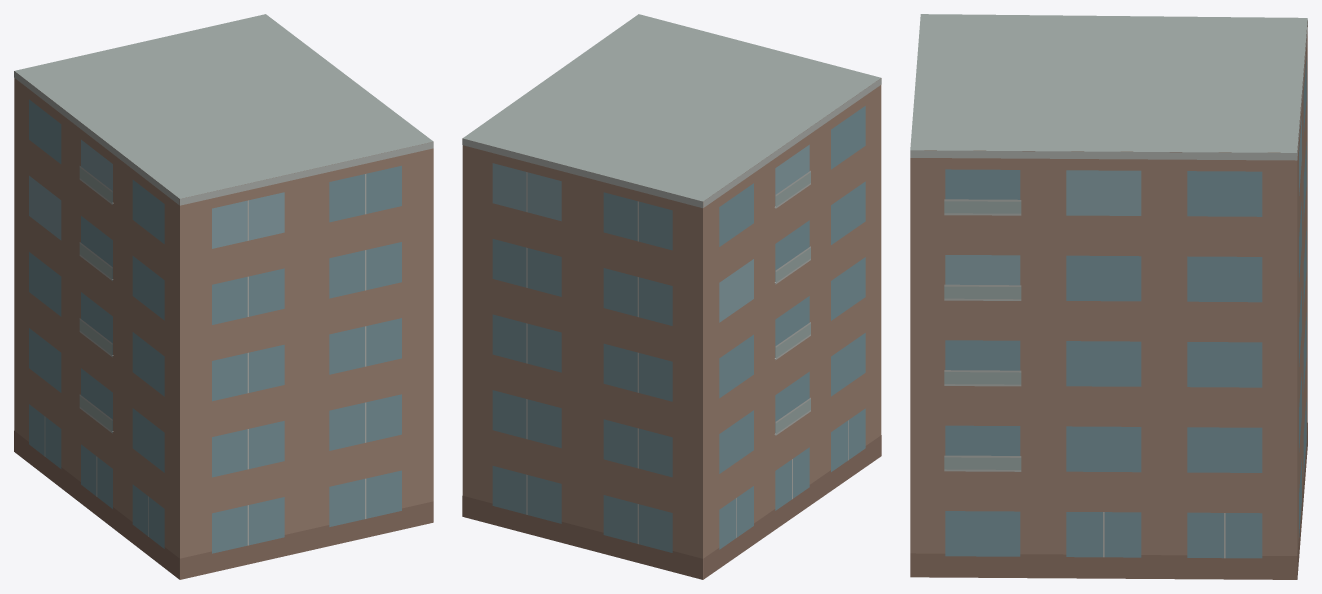
The model's file is survey-upis-32878064.glb.
The picture shows the model from 3 angles, left to right: view 1: azimuth 30°, elevation 25°; view 2: azimuth 150°, elevation 25°; view 3: azimuth 270°, elevation 25°; orthographic projection. The views are drawn at different scales.
Parts seen in each view (by area): view 1: survey-upis-32878064.tmp; view 2: survey-upis-32878064.tmp; view 3: survey-upis-32878064.tmp.
Boxes of the visible parts, x1=… form: survey-upis-32878064.tmp: x1=14, y1=14, x2=433, y2=579; survey-upis-32878064.tmp: x1=462, y1=14, x2=881, y2=579; survey-upis-32878064.tmp: x1=910, y1=14, x2=1307, y2=579.
Bounding box in the file's own units: 9.57 × 13.7 × 11.57.
